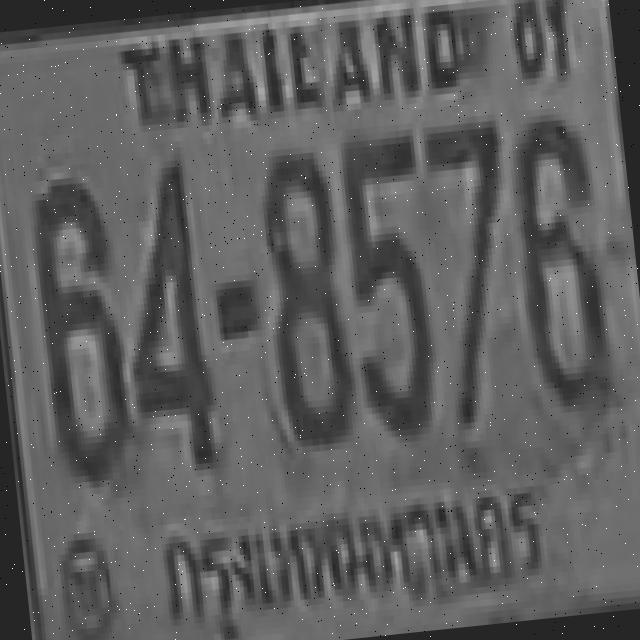4: (110, 153, 216, 469)
5: (336, 129, 440, 433)
6: (505, 108, 612, 412), (26, 168, 130, 478)
7: (420, 114, 524, 424)
8: (253, 141, 353, 445)
Bangkok: (135, 446, 561, 640)
